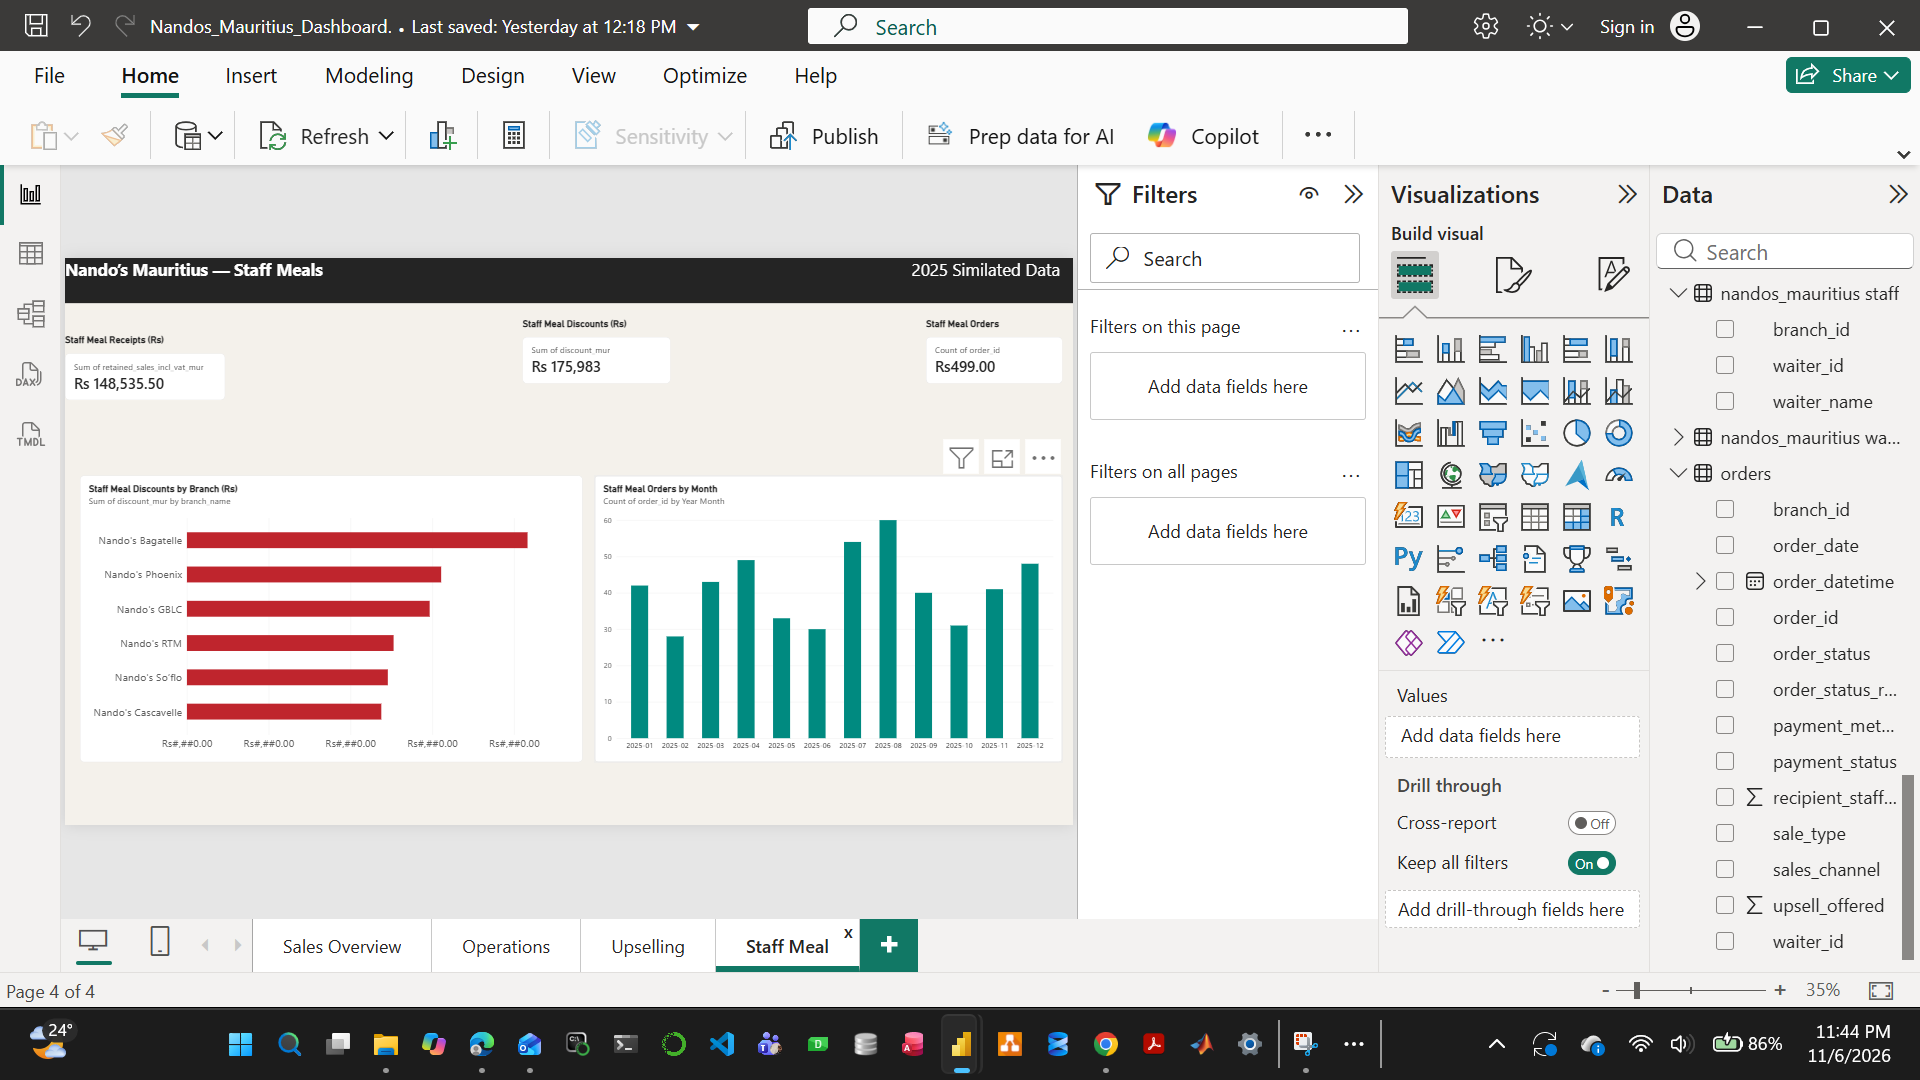

The dashboard page shown, as its layout file describes it:
{"tool":"powerbi","page":{"name":"Staff Meal","canvas":[1920,1080],"ordinal":3},"visuals":[{"type":"cardVisual","title":"Staff Meal Receipts (Rs)","fields":{"Data":["Sum(nandos_mauritius order_items.retained_sales_incl_vat_mur)"]},"box":[0,145.7,305.7,125.7],"z":0},{"type":"cardVisual","title":"Staff Meal Discounts (Rs)","fields":{"Data":["Sum(nandos_mauritius order_items.discount_mur)"]},"box":[871.4,114.3,282.9,125.7],"z":1000},{"type":"cardVisual","title":"Staff Meal Orders","fields":{"Data":["Count(orders.order_id)"]},"box":[1640,114.3,260,125.7],"z":2000},{"type":"clusteredBarChart","title":"Staff Meal Discounts by Branch (Rs)","fields":{"Category":["nandos_mauritius branches.branch_name"],"Y":["Sum(nandos_mauritius order_items.discount_mur)"]},"box":[28.6,414.3,957.1,545.7],"z":3000},{"type":"clusteredColumnChart","title":"Staff Meal Orders by Month","fields":{"Category":["Calendar.Year Month"],"Y":["Count(orders.order_id)"]},"box":[1008.6,414.3,891.4,545.7],"z":4000},{"type":"textbox","box":[0,0,1920,85.7],"z":5000}]}

Visuals, with their boxes on the page's 1920x1080 design canvas (x1, y1, x2, y2). These are canvas units, not pixel positions in the 1920x1080 screenshot, which may show the page scaled, cropped or inside an application window:
"Staff Meal Receipts (Rs)" cardVisual: (0,146,306,271)
"Staff Meal Discounts (Rs)" cardVisual: (871,114,1154,240)
"Staff Meal Orders" cardVisual: (1640,114,1900,240)
"Staff Meal Discounts by Branch (Rs)" clusteredBarChart: (29,414,986,960)
"Staff Meal Orders by Month" clusteredColumnChart: (1009,414,1900,960)
textbox: (0,0,1920,86)
